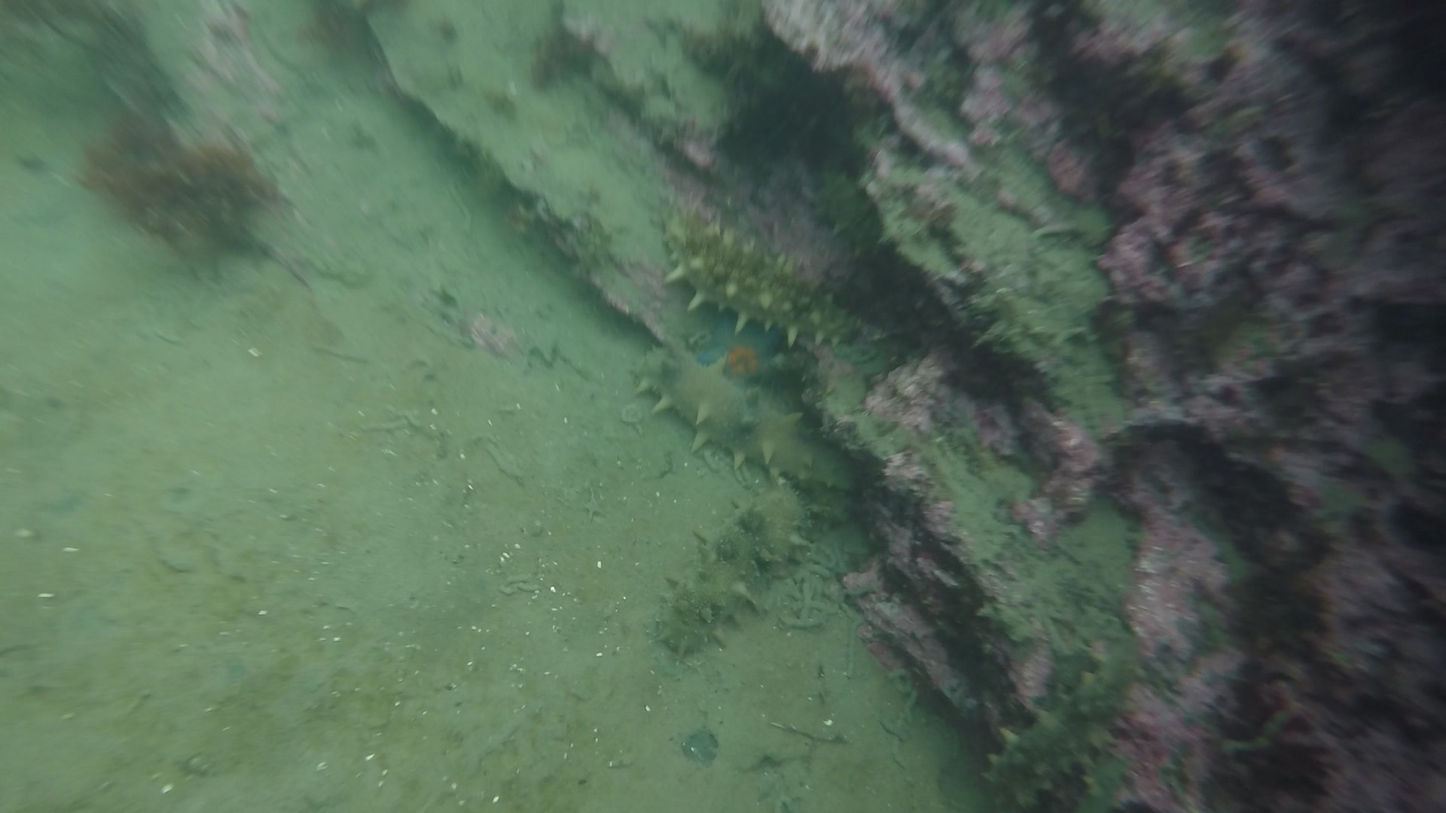echinus: (633, 347, 882, 494), (660, 212, 892, 357), (652, 489, 844, 651), (973, 643, 1144, 809)
holothurian: (694, 311, 790, 385)
